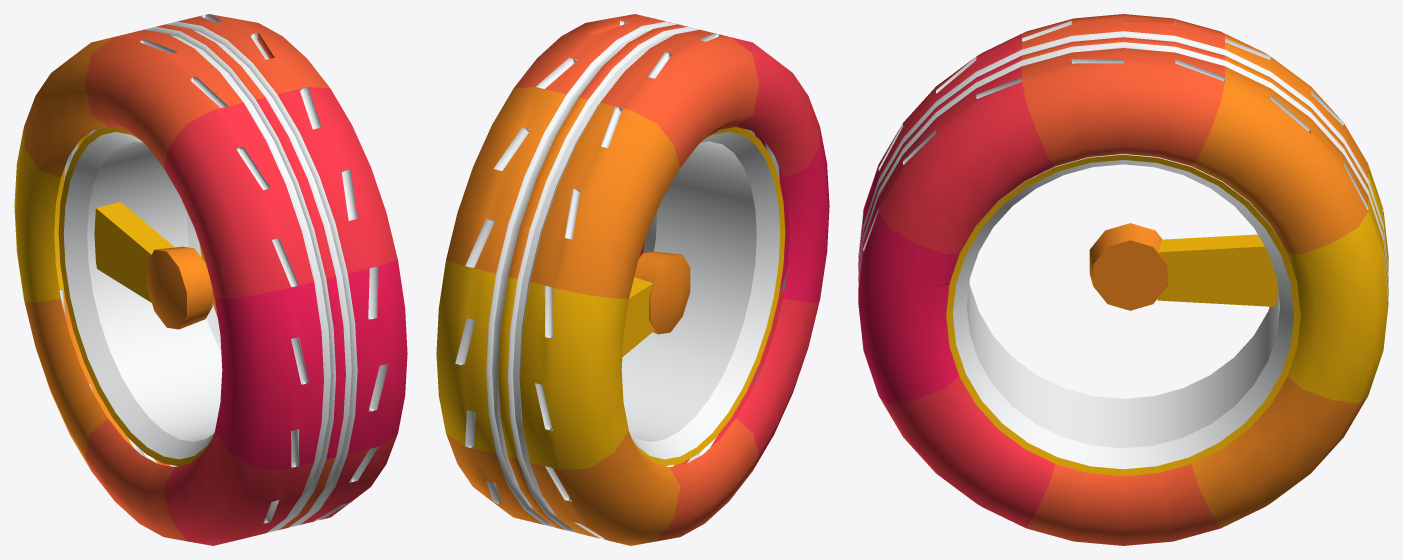
The model's file is colorwheel.fbx.
The picture shows the model from 3 angles, left to right: view 1: azimuth 30°, elevation 25°; view 2: azimuth 150°, elevation 25°; view 3: azimuth 270°, elevation 25°; orthographic projection.
Parts seen in each view (by area): view 1: pCylinder5; view 2: pCylinder5; view 3: pCylinder5.
Part boxes in pixels (x1,y1,x2,y2): pCylinder5: [14, 14, 407, 545]; pCylinder5: [436, 14, 829, 545]; pCylinder5: [858, 14, 1388, 545].
Size of the model in its own units: 0.4593 by 1.23 by 1.23.
